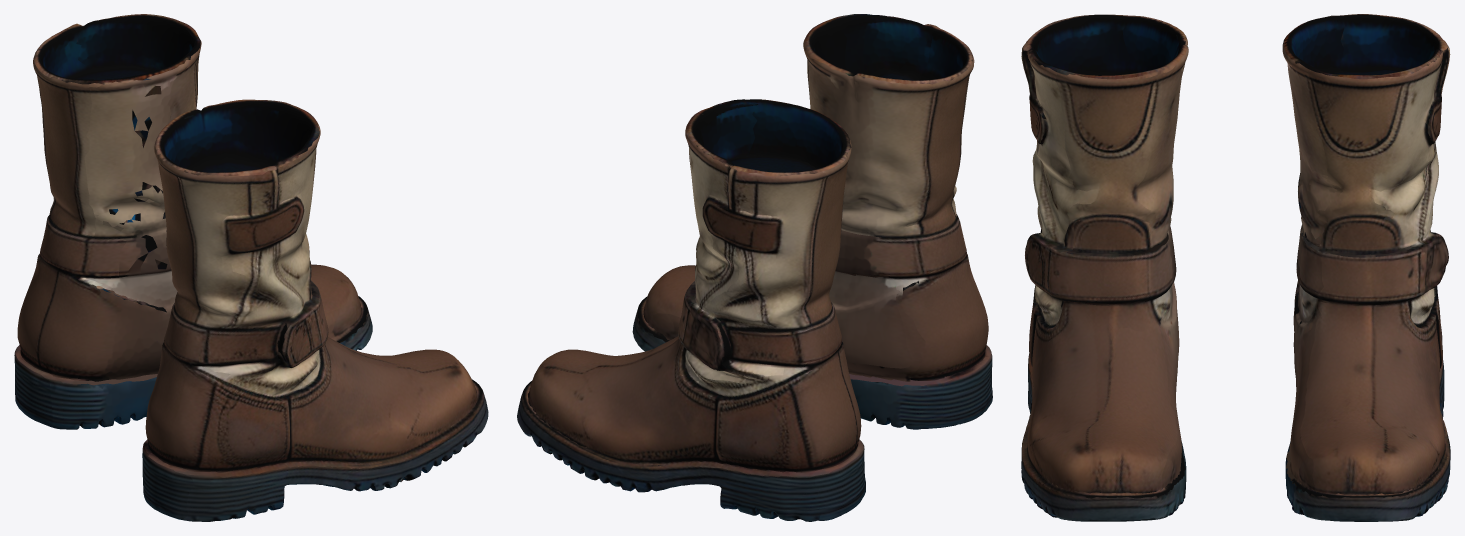
Rendered from catalog-hunting-gear-boots.glb.
3 renders of one model, left to right at view 1: azimuth 30°, elevation 25°; view 2: azimuth 150°, elevation 25°; view 3: azimuth 270°, elevation 25°, orthographic. The views are drawn at different scales.
Visible parts, largest first — view 1: tmpexrc8sd5.ply; view 2: tmpexrc8sd5.ply; view 3: tmpexrc8sd5.ply.
Boxes of the visible parts, x1,y1,x2,y2 form: tmpexrc8sd5.ply: (14, 14, 488, 521); tmpexrc8sd5.ply: (517, 14, 992, 521); tmpexrc8sd5.ply: (1021, 14, 1450, 521).
Size of the model in its own units: 1.89 by 1.93 by 1.96.
Materials: 1 (1 with a texture image).
